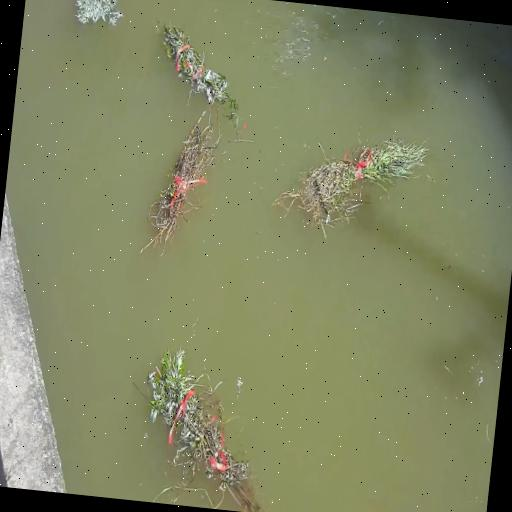twig: (132, 343, 280, 512), (276, 99, 440, 244), (140, 103, 221, 263), (154, 22, 256, 138), (70, 0, 126, 29)
